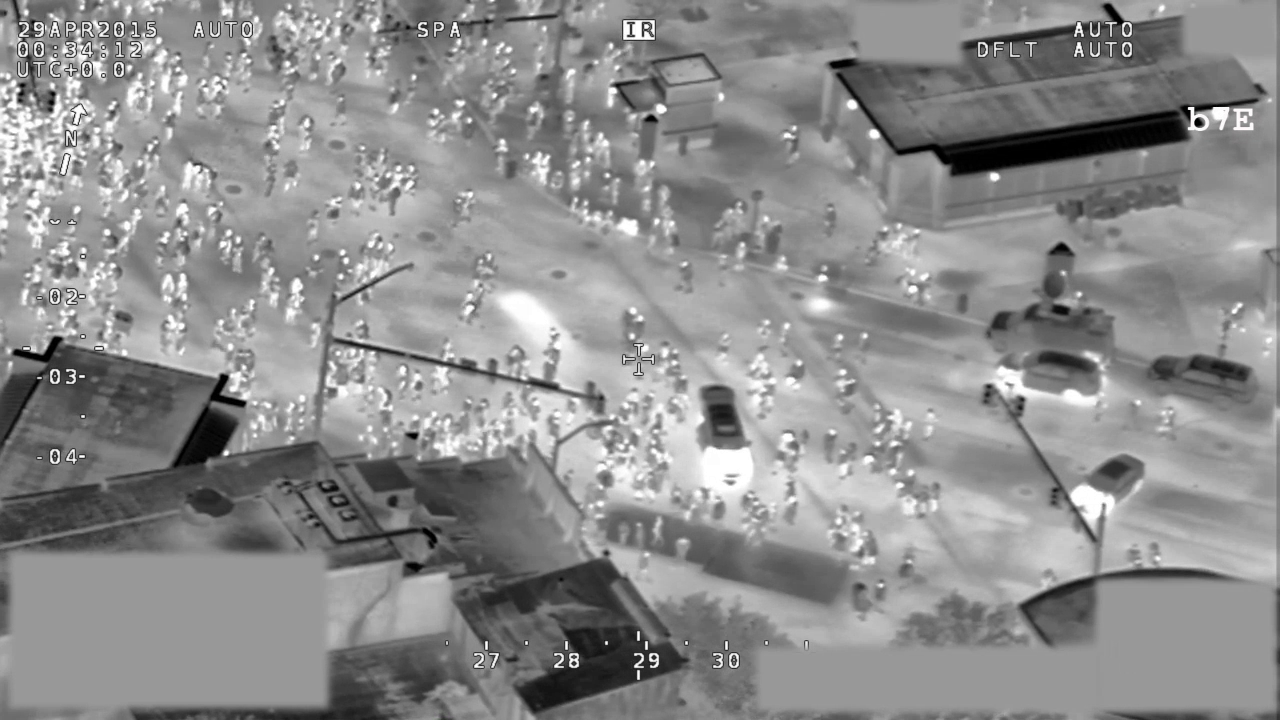vehicle: (979, 266, 1123, 380), (684, 378, 763, 503), (1142, 343, 1262, 417), (995, 347, 1109, 417), (1059, 447, 1152, 529)
